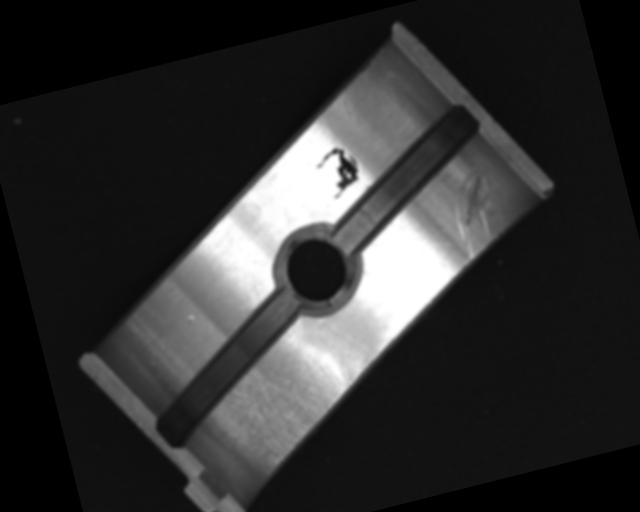blot: (312, 142, 365, 203)
bruise: (183, 312, 196, 326)
gap: (130, 287, 327, 452), (315, 102, 502, 256)
hole: (263, 218, 366, 319)
nick: (444, 163, 507, 263)
scratch: (201, 341, 388, 488)
